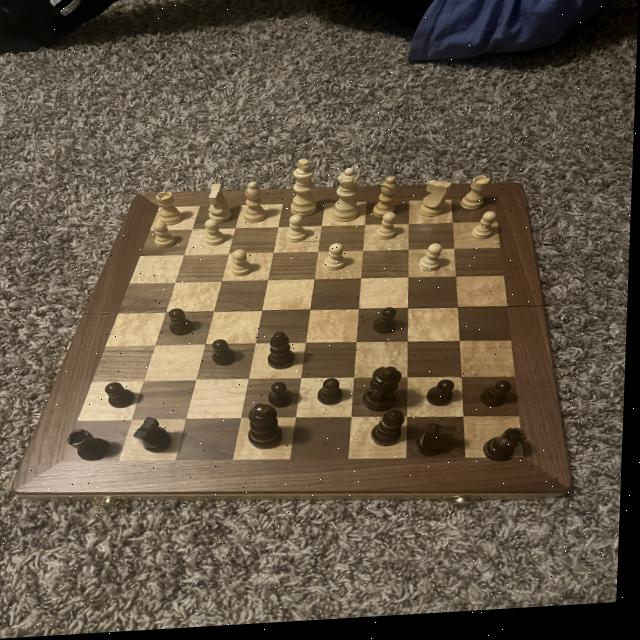bishop: (371, 413, 412, 457), (265, 333, 301, 380)
black-bishop: (365, 369, 408, 420)
black-king: (416, 427, 464, 466), (135, 415, 177, 458)
black-knight: (480, 383, 520, 418), (316, 379, 351, 413), (166, 308, 203, 339), (371, 311, 407, 342), (426, 383, 462, 414), (212, 340, 245, 373), (268, 382, 299, 415), (106, 383, 141, 412)
black-pawn: (244, 403, 294, 455)
black-queen: (485, 432, 535, 471), (68, 427, 117, 466)
black-rook: (371, 177, 403, 225), (241, 183, 272, 230)
white-bishop: (285, 159, 326, 223)
white-king: (419, 183, 457, 224), (206, 183, 237, 228)
white-knight: (420, 245, 448, 281), (471, 217, 502, 249), (204, 219, 232, 251), (325, 245, 353, 276), (231, 250, 258, 282), (152, 222, 181, 251), (288, 217, 314, 249), (377, 216, 403, 247)
white-pawn: (329, 170, 368, 228)
white-queen: (461, 180, 496, 218), (155, 192, 190, 230)
